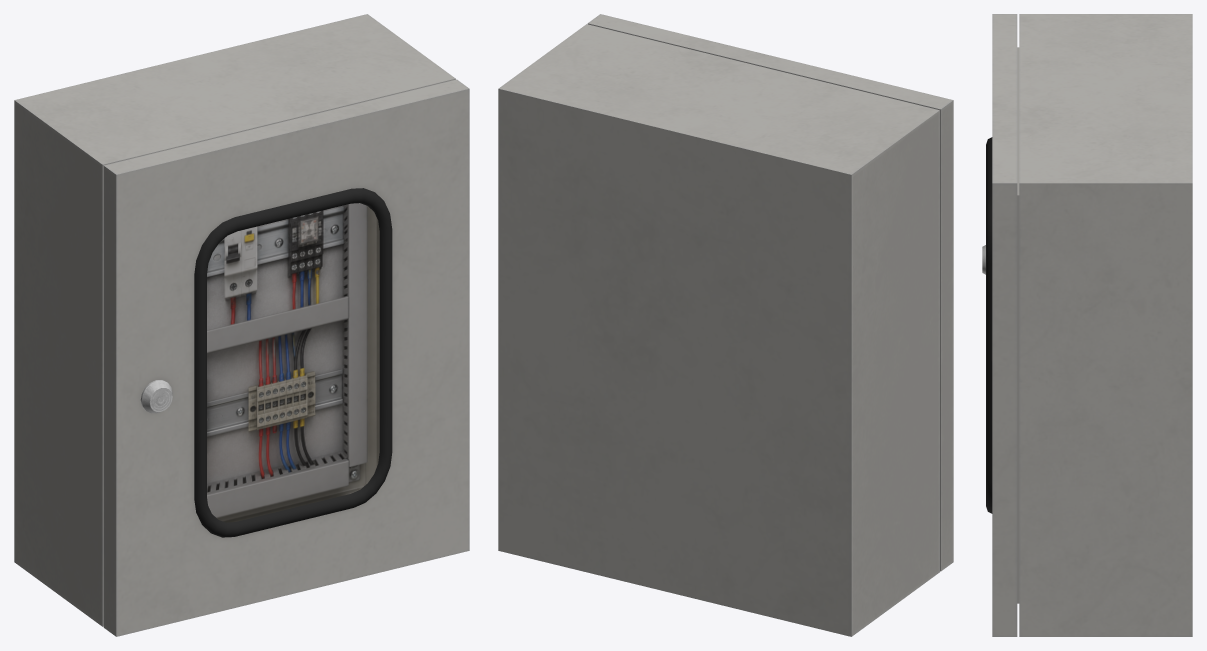
Rendered from SM05_Industrial_Enclosure_02.fbx.
3 renders of one model, left to right at view 1: azimuth 30°, elevation 25°; view 2: azimuth 150°, elevation 25°; view 3: azimuth 270°, elevation 25°, orthographic.
Visible parts, largest first — view 1: SM05_Industrial_Enclosure_02; view 2: SM05_Industrial_Enclosure_02; view 3: SM05_Industrial_Enclosure_02.
Part boxes in pixels (x1,y1,x2,y2): SM05_Industrial_Enclosure_02: [14, 14, 469, 636]; SM05_Industrial_Enclosure_02: [498, 14, 953, 636]; SM05_Industrial_Enclosure_02: [982, 14, 1192, 636].
Size of the model in its own units: 0.4 by 0.5 by 0.2102.
